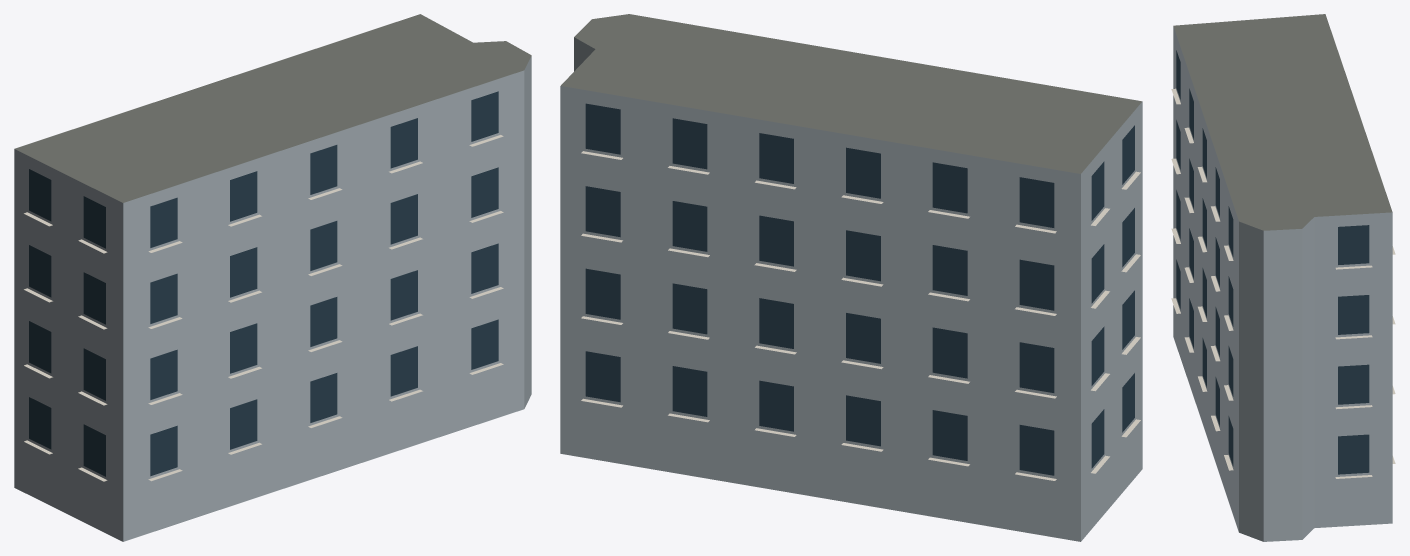
The picture shows the model from 3 angles, left to right: view 1: azimuth 30°, elevation 25°; view 2: azimuth 150°, elevation 25°; view 3: azimuth 270°, elevation 25°; orthographic projection. The views are drawn at different scales.
Visible parts, largest first — view 1: Footprint 0, Inferred window bays, Window sills; view 2: Footprint 0, Inferred window bays, Window sills; view 3: Footprint 0, Inferred window bays, Window sills.
Part boxes in pixels (x1,y1,x2,y2): Footprint 0: [14, 14, 531, 541]; Inferred window bays: [29, 91, 498, 476]; Window sills: [24, 135, 503, 481]; Footprint 0: [560, 14, 1142, 541]; Inferred window bays: [585, 103, 1134, 475]; Window sills: [581, 151, 1140, 480]; Footprint 0: [1173, 14, 1392, 541]; Inferred window bays: [1176, 50, 1369, 474]; Window sills: [1171, 88, 1395, 478].
Size of the model in its own units: 20.14 by 13.42 by 8.76.
